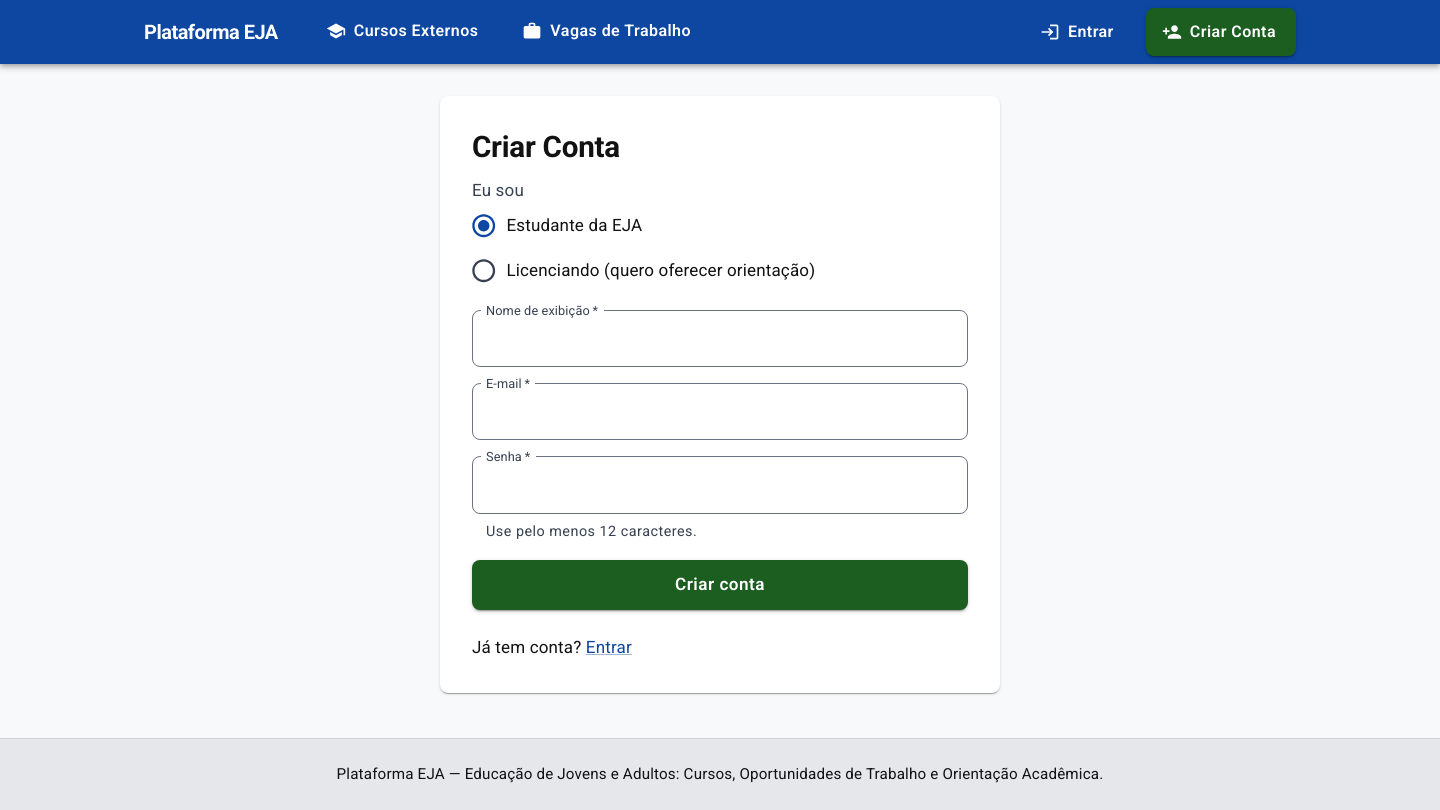
conta criada com falha no login automático orienta a entrar manualmente
The width and height of the screenshot is (1440, 810).
In the field labelled "Nome de exibição *": point(720, 338) [472,310,968,367], type "Ana"
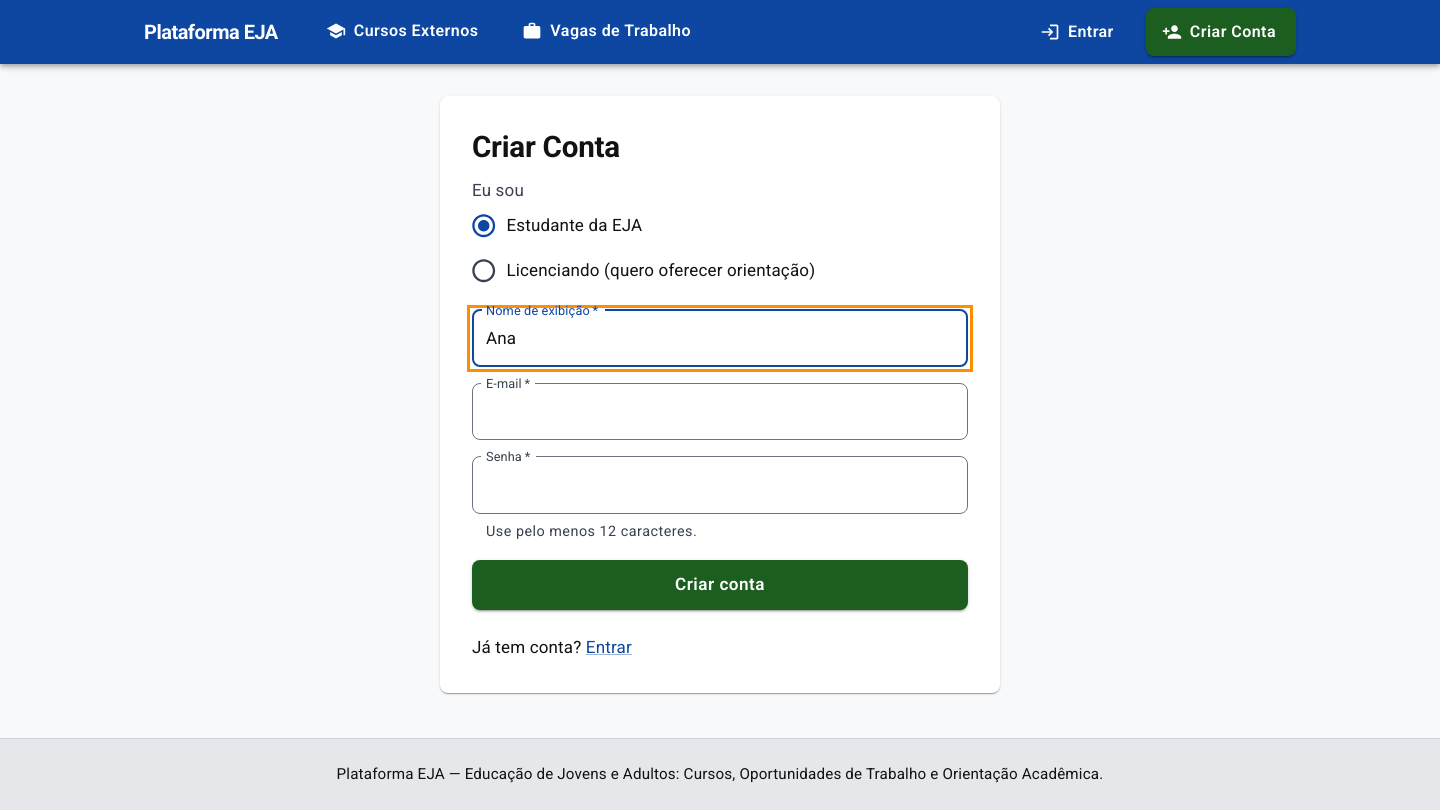
In the field labelled "E-mail *": point(720, 412) [472,383,968,440], type "ana@example.com"
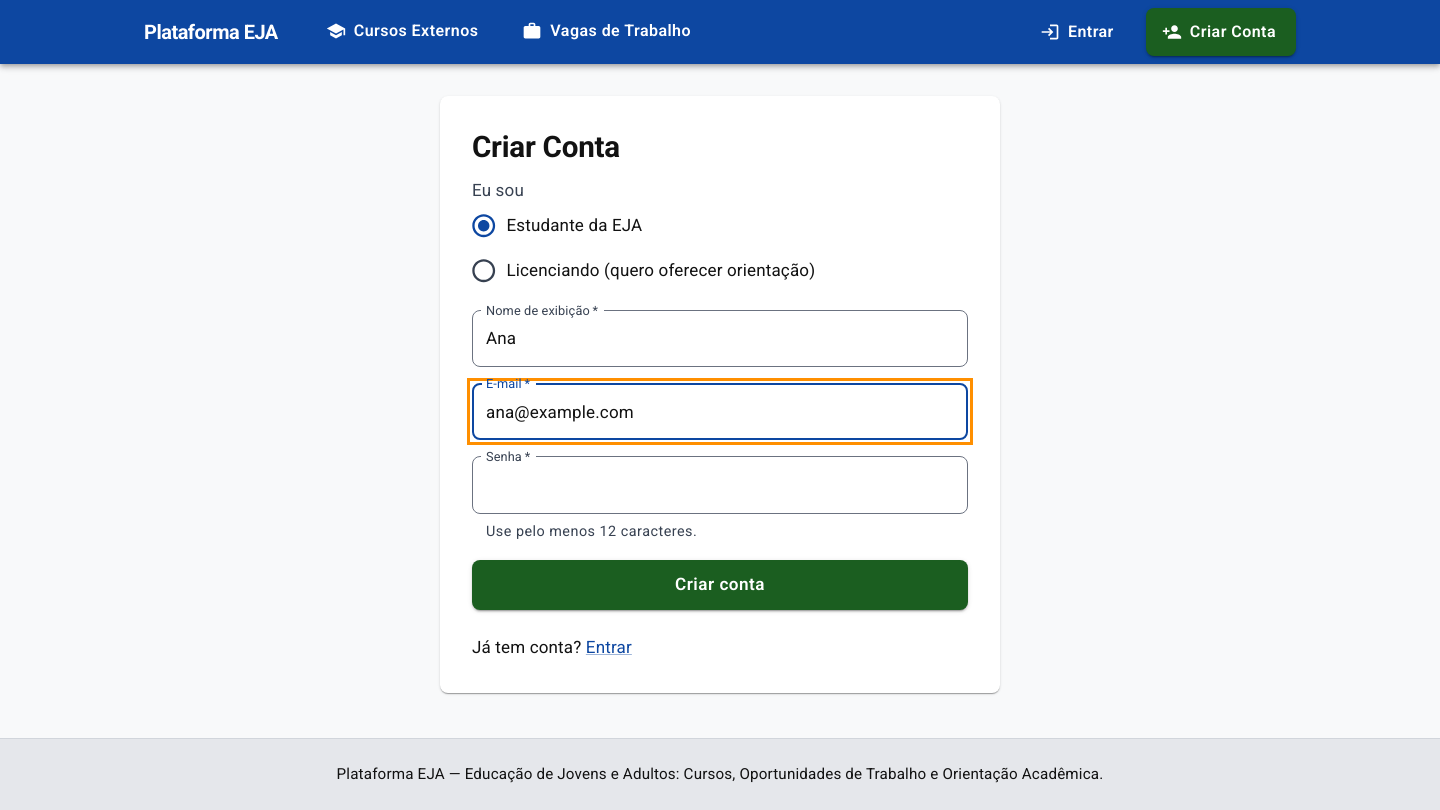
In the password field labelled "Senha *": point(720, 485) [472,456,968,514], type "senha-bem-longa"
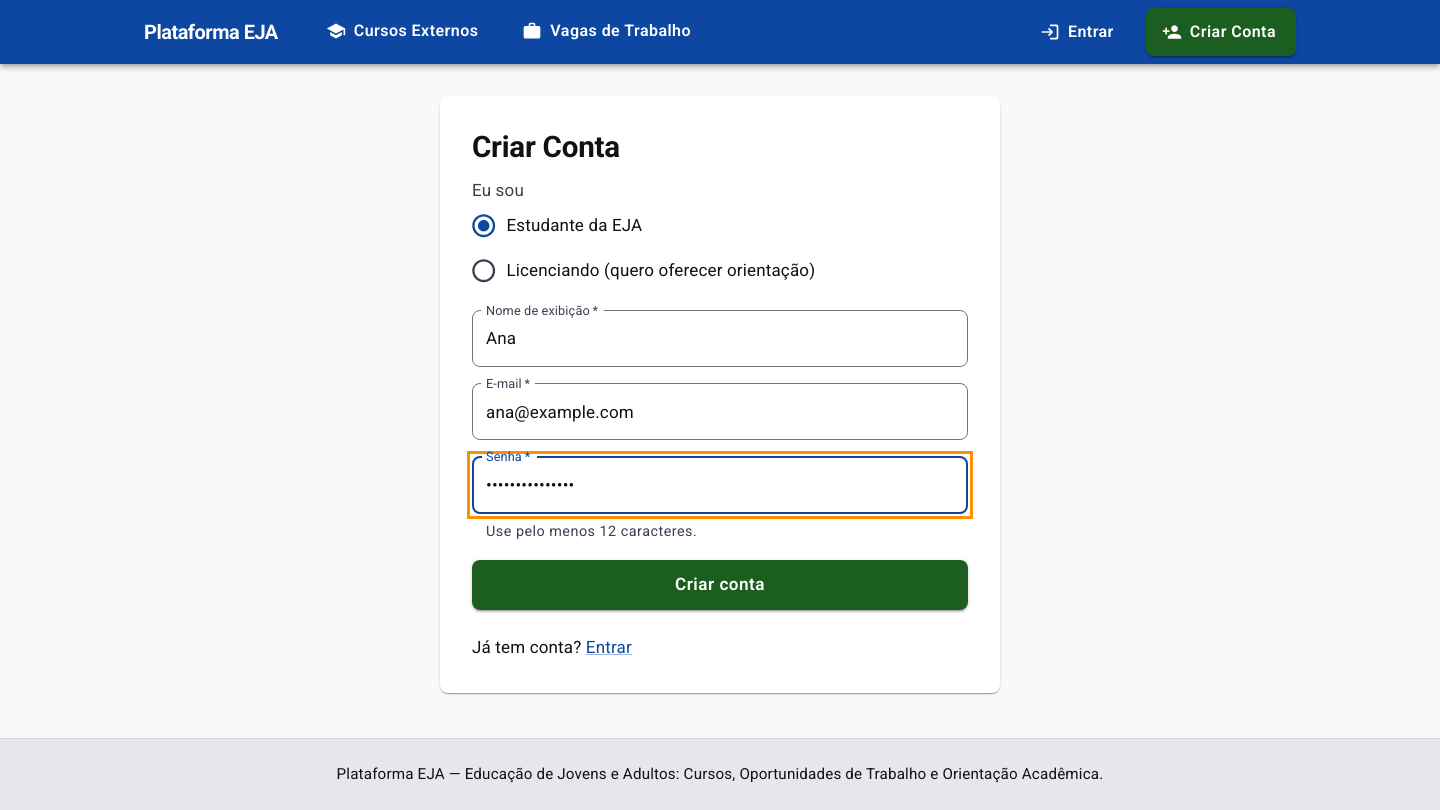
Click the button "Criar conta": point(720, 585) [472,560,968,610]
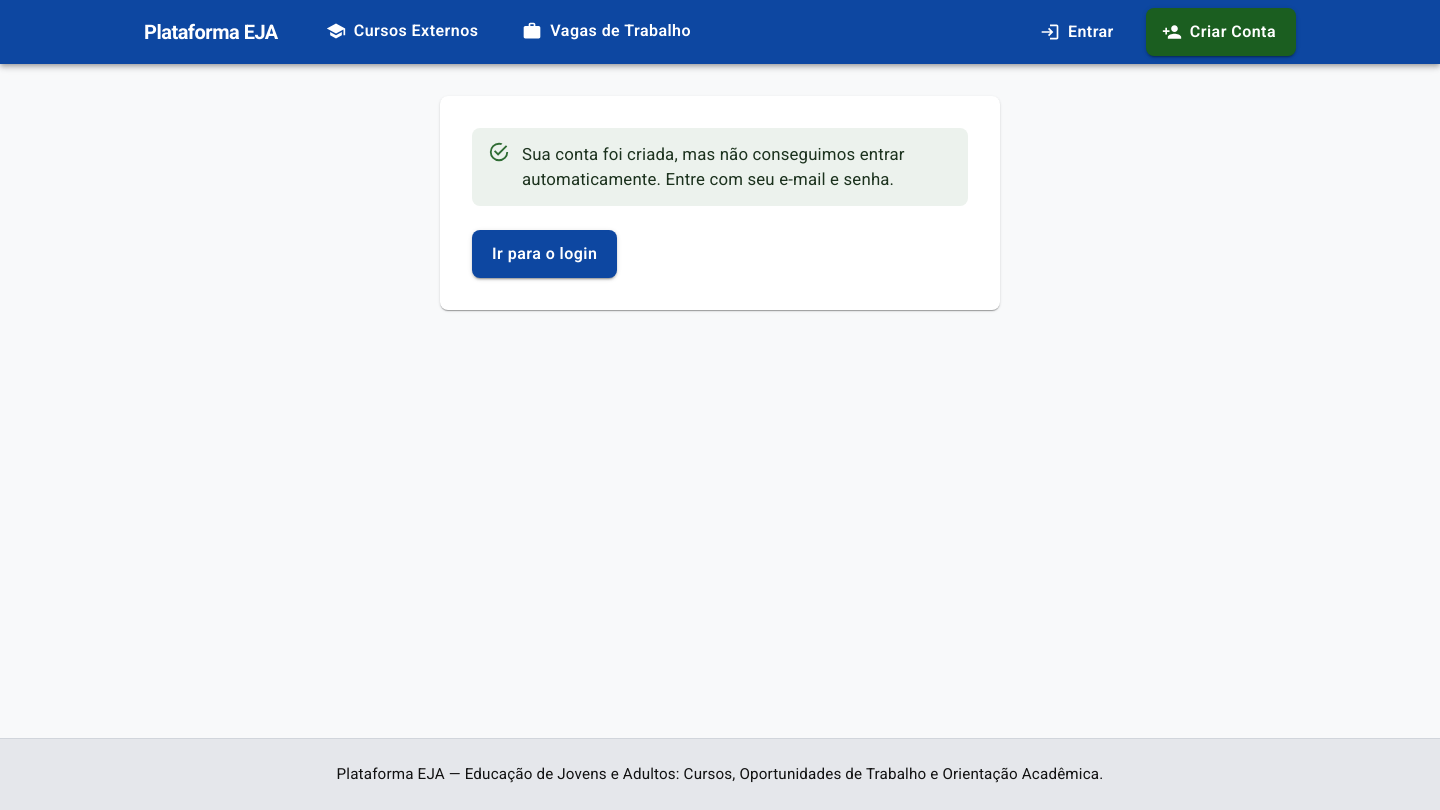
Check: the text "Sua conta foi criada" is shown, box [522,144,905,189]
